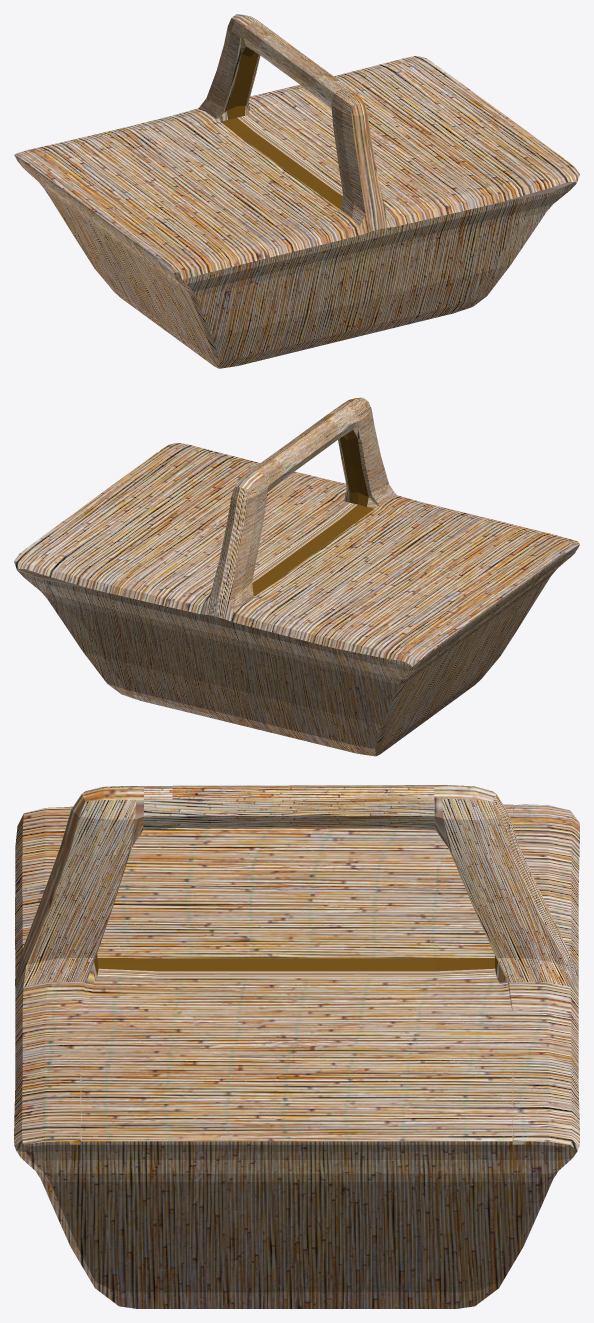
Rendered from Cesta.fbx.
The picture shows the model from 3 angles, top to bottom: view 1: azimuth 30°, elevation 25°; view 2: azimuth 150°, elevation 25°; view 3: azimuth 270°, elevation 25°; orthographic projection. The views are drawn at different scales.
Parts seen in each view (by area): view 1: Cube.001, Cube, Cube.002; view 2: Cube.001, Cube, Cube.002; view 3: Cube.001, Cube, Cube.002.
Boxes of the visible parts, <box> form: Cube.001: <box>14,56,579,287</box>; Cube: <box>32,100,568,368</box>; Cube.002: <box>206,14,384,214</box>; Cube.001: <box>14,443,579,675</box>; Cube: <box>25,486,567,756</box>; Cube.002: <box>210,397,388,601</box>; Cube.001: <box>14,804,579,1167</box>; Cube: <box>29,957,564,1308</box>; Cube.002: <box>21,785,569,965</box>.
Size of the model in its own units: 605 by 355 by 430.
